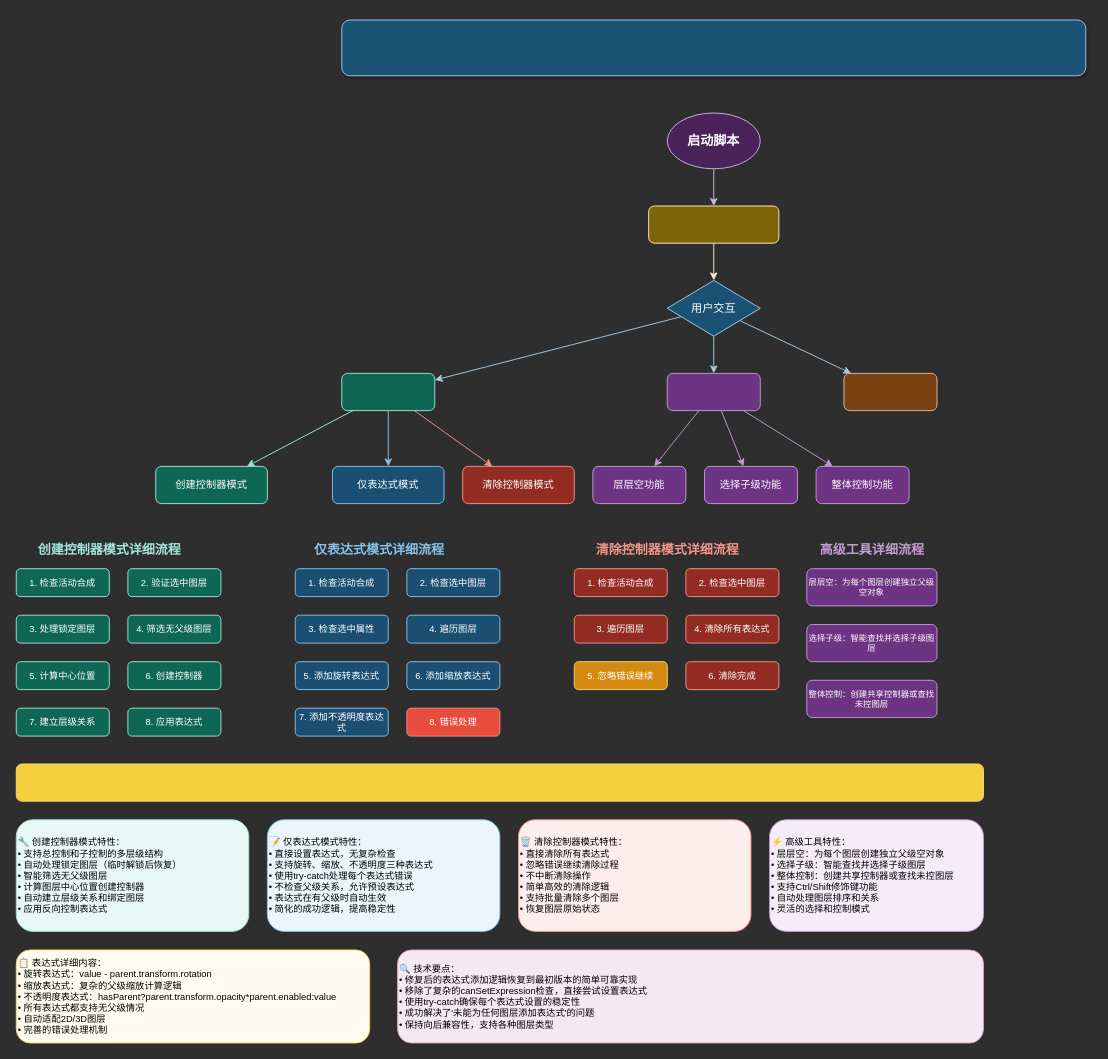
Image size: 1108x1059. Some labels were removed from this diagram. Each missing label, with the centre of its shape:
Advanced Null Controller v2.1 - 完整工作流程: point (714, 48)
关键特性说明: point (499, 782)
初始化UI面板: point (713, 224)
帮助功能: point (890, 391)
核心功能: point (388, 391)
高级工具: point (713, 391)
